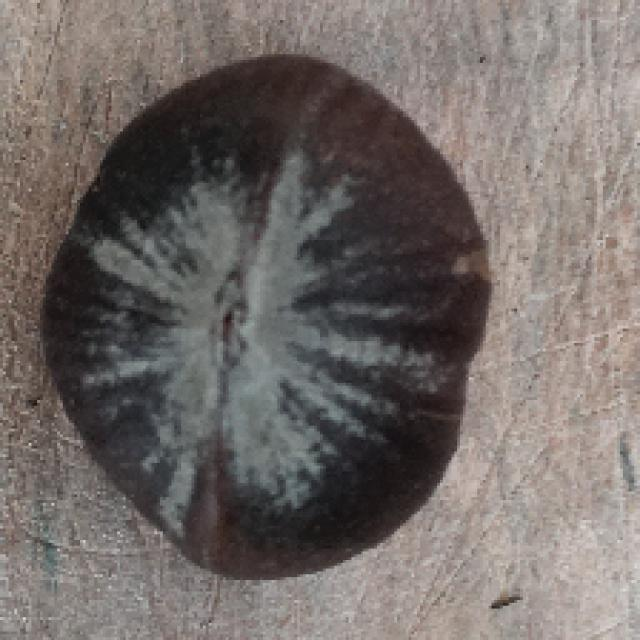damagedHazelnut: (40, 47, 495, 579)
